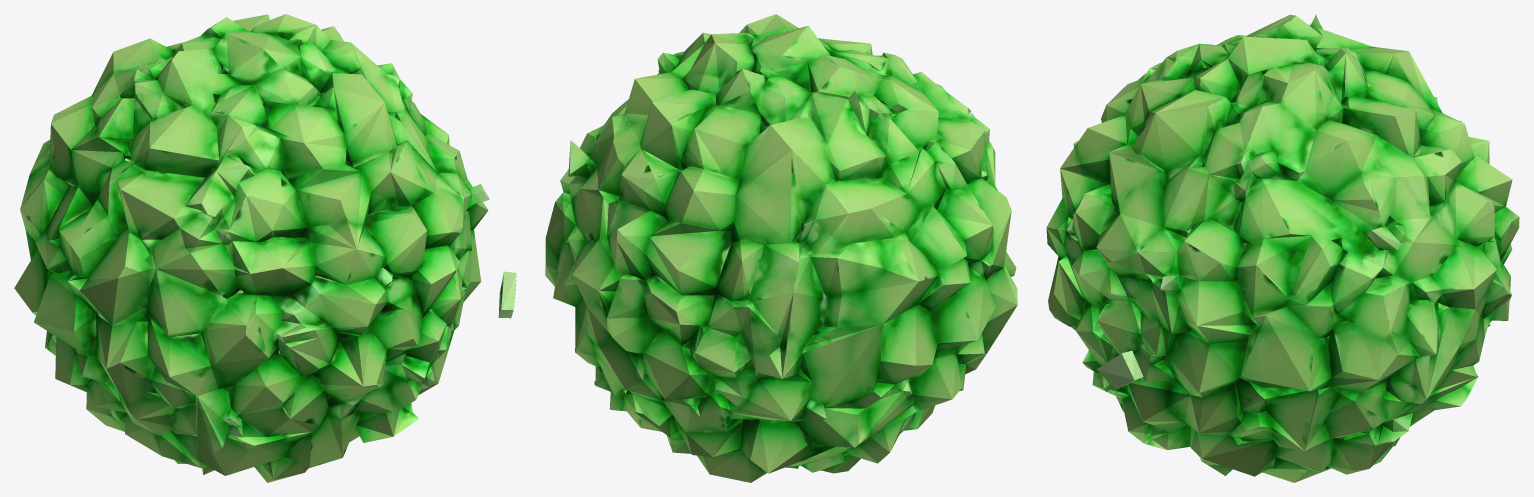
File: bush.glb
3 views of the same model, side by side, from view 1: azimuth 30°, elevation 25°; view 2: azimuth 150°, elevation 25°; view 3: azimuth 270°, elevation 25° (orthographic).
Parts seen in each view (by area): view 1: tmpha66ipwi.ply; view 2: tmpha66ipwi.ply; view 3: tmpha66ipwi.ply.
Boxes of the visible parts, <box> form: tmpha66ipwi.ply: <box>14,14,516,482</box>; tmpha66ipwi.ply: <box>545,14,1017,482</box>; tmpha66ipwi.ply: <box>1046,14,1519,482</box>.
Size of the model in its own units: 1.93 by 1.94 by 1.98.
1 material, 1 textured.
